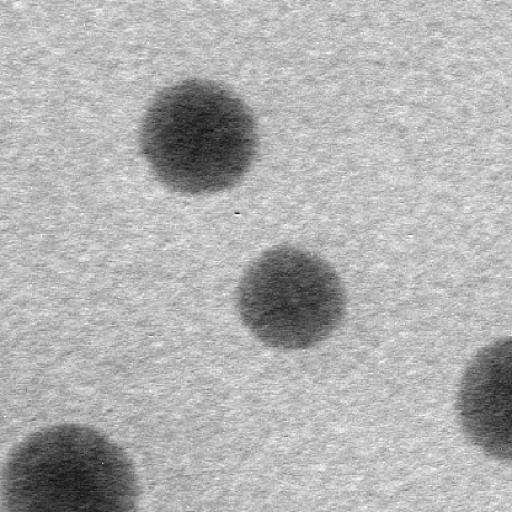Nanoparticles: (138, 76, 258, 199), (233, 240, 349, 354), (1, 424, 144, 512), (454, 337, 512, 466)
